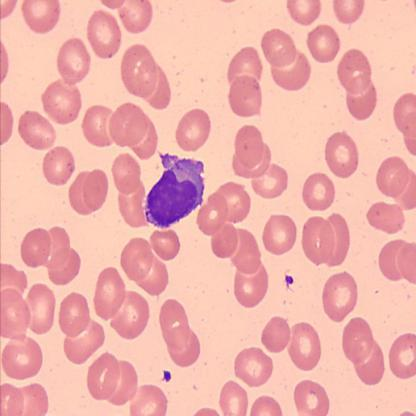Atypical lymphocyte: (144, 149, 206, 229)
